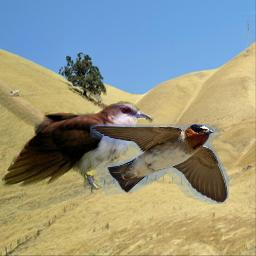Cuckoo: (0, 43, 154, 194)
Swallow: (90, 124, 229, 204)
